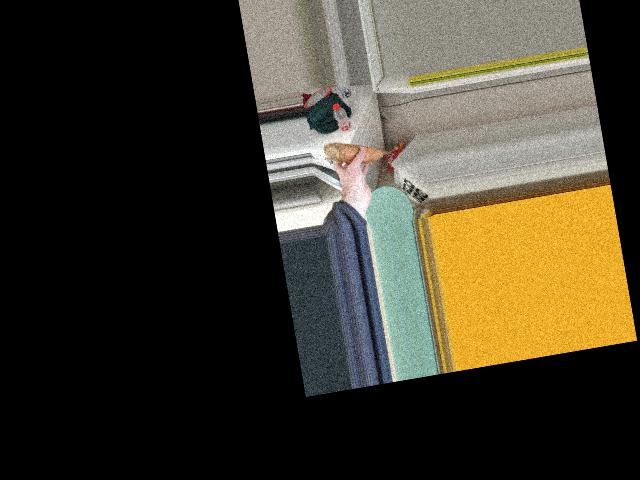sweet_potato: (323, 137, 389, 166)
